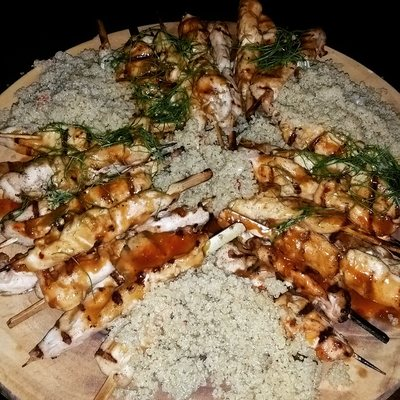sandwich: (0, 9, 400, 398)
